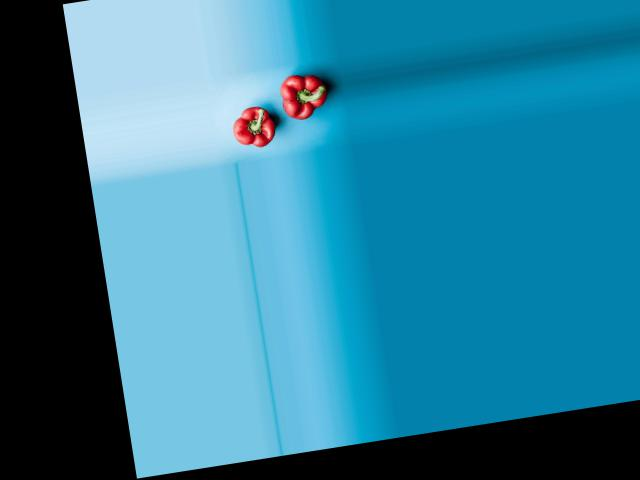bell_pepper: (269, 70, 336, 128)
